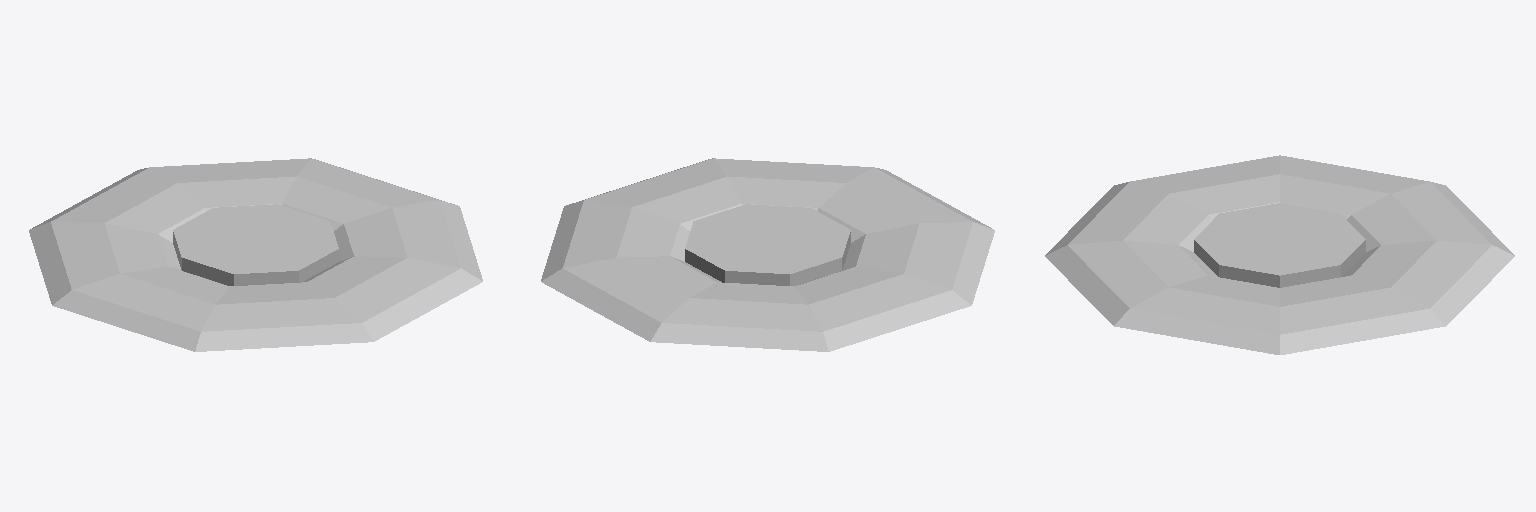
The model's file is FrontRightBurner.obj.
The picture shows the model from 3 angles: view 1: azimuth 30°, elevation 25°; view 2: azimuth 150°, elevation 25°; view 3: azimuth 270°, elevation 25°; orthographic projection.
Visible parts, largest first — view 1: Front_Right_Burner_grp Stove_grp Front_Right_Burner_Outer_Elemen, Front_Right_Burner_Inner_Element_geo Front_Right_Burner_grp Stov; view 2: Front_Right_Burner_grp Stove_grp Front_Right_Burner_Outer_Elemen, Front_Right_Burner_Inner_Element_geo Front_Right_Burner_grp Stov; view 3: Front_Right_Burner_grp Stove_grp Front_Right_Burner_Outer_Elemen, Front_Right_Burner_Inner_Element_geo Front_Right_Burner_grp Stov.
Part boxes in pixels (x1,y1,x2,y2): Front_Right_Burner_grp Stove_grp Front_Right_Burner_Outer_Elemen: (29,158,482,351); Front_Right_Burner_Inner_Element_geo Front_Right_Burner_grp Stov: (173,204,338,285); Front_Right_Burner_grp Stove_grp Front_Right_Burner_Outer_Elemen: (541,158,994,351); Front_Right_Burner_Inner_Element_geo Front_Right_Burner_grp Stov: (685,204,850,285); Front_Right_Burner_grp Stove_grp Front_Right_Burner_Outer_Elemen: (1045,155,1514,354); Front_Right_Burner_Inner_Element_geo Front_Right_Burner_grp Stov: (1194,203,1365,287).
Bounding box in the file's own units: 38.37 × 3 × 38.37.